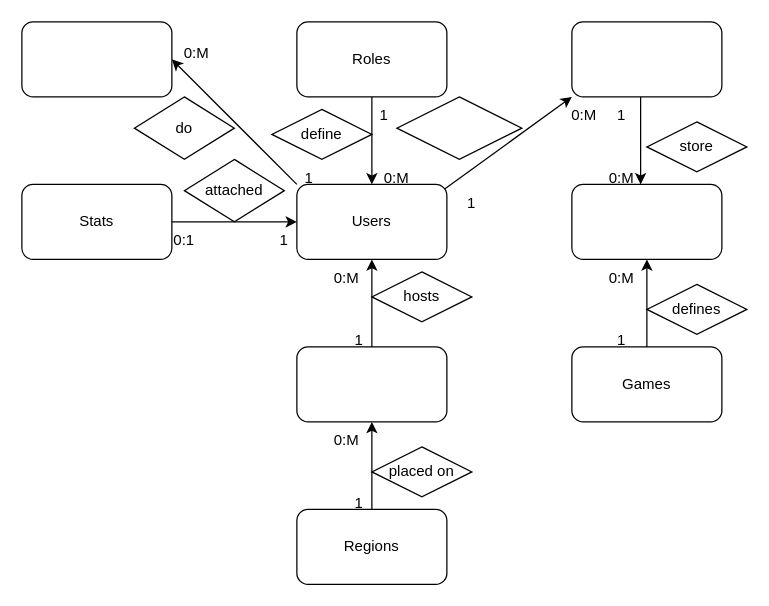
This 769x606 diagram has some shape labels left out. Here are the shapes that lost their labels. From the top down, the box of each, then its label:
(21, 21, 172, 97): Bans
(571, 21, 722, 97): Sessions
(396, 96, 522, 159): initialized by
(571, 183, 722, 259): Matches
(296, 346, 447, 422): Servers
